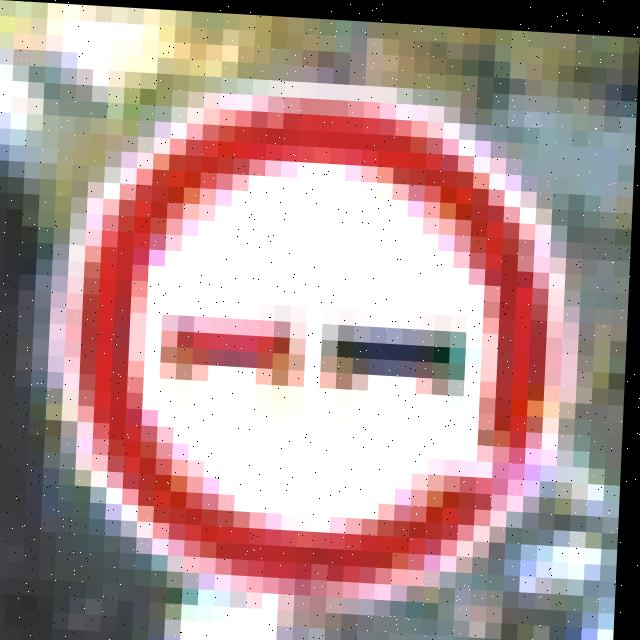no_overtaking: (67, 76, 582, 595)
